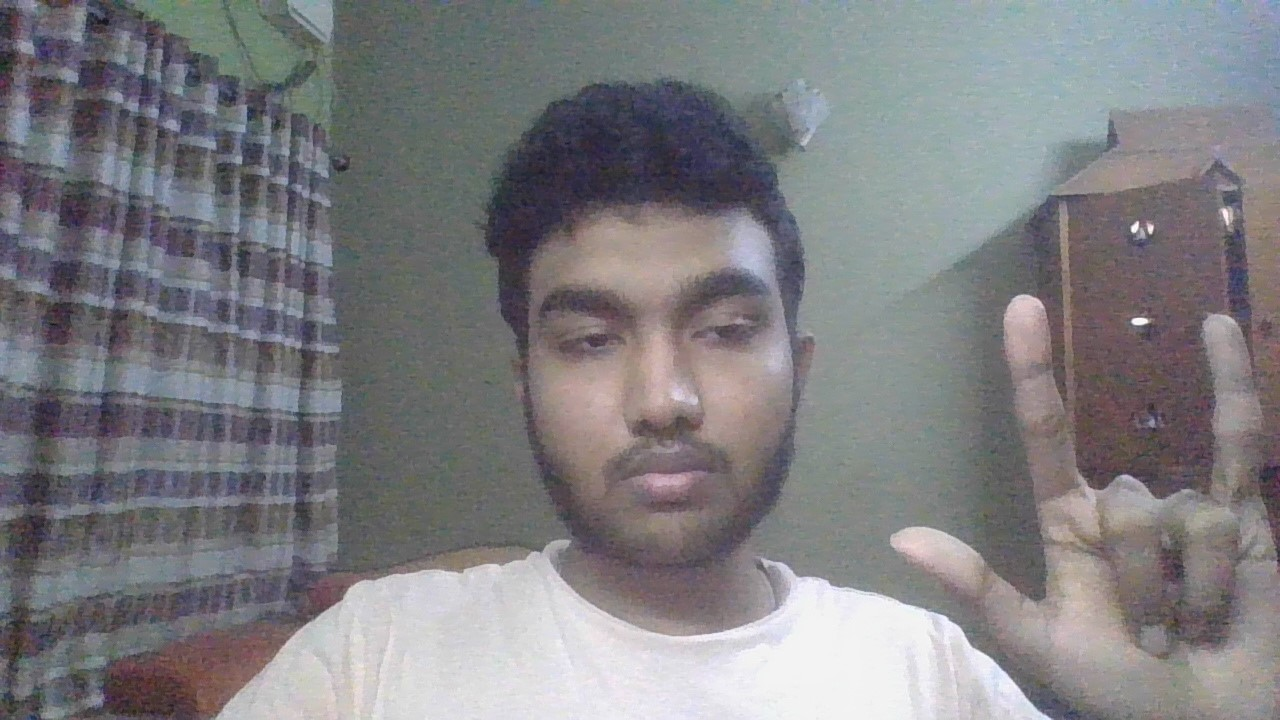I Love You: (873, 265, 1280, 720)
